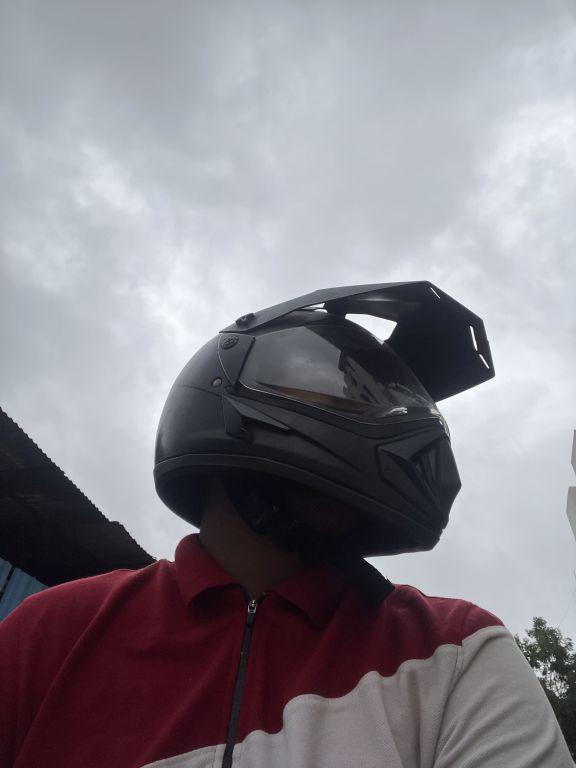helmet: (135, 267, 513, 577)
